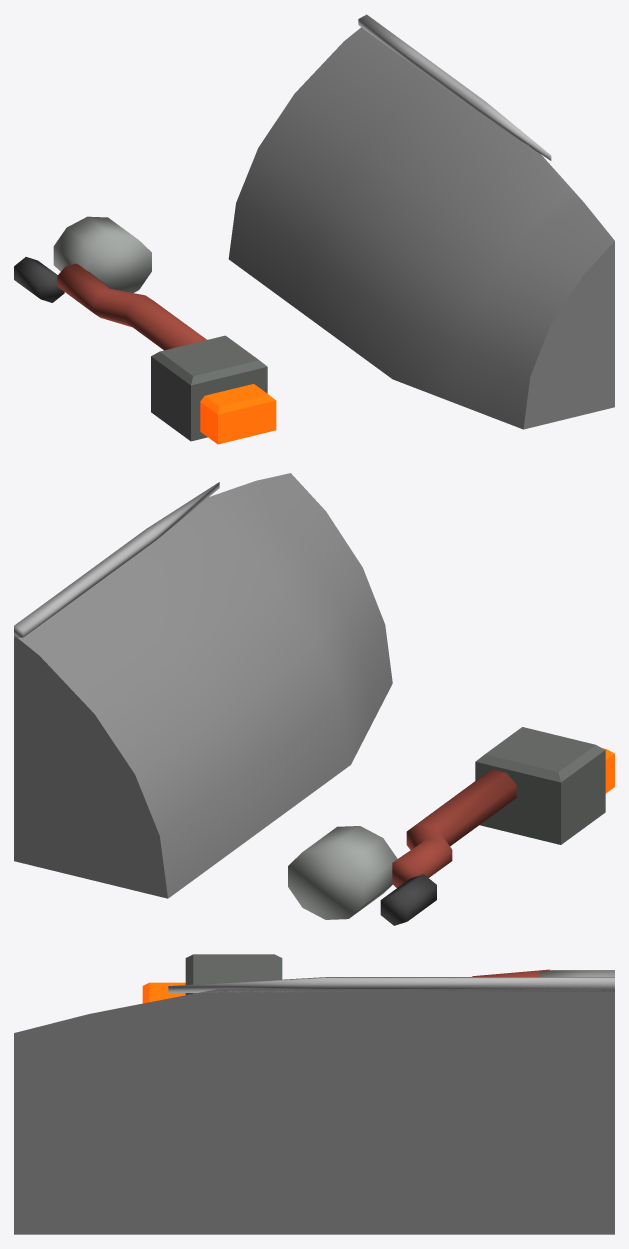
Rendered from newshi-115.glb.
3 views of the same model, one above another, from view 1: azimuth 30°, elevation 25°; view 2: azimuth 150°, elevation 25°; view 3: azimuth 270°, elevation 25° (orthographic). The views are drawn at different scales.
Visible parts, largest first — view 1: newshi-115; view 2: newshi-115; view 3: newshi-115.
Part boxes in pixels (left/top/right/bottom): newshi-115: left=14, top=14, right=614, bottom=444; newshi-115: left=14, top=473, right=614, bottom=925; newshi-115: left=14, top=954, right=614, bottom=1234.
Size of the model in its own units: 1.92 by 1.1 by 2.33.
